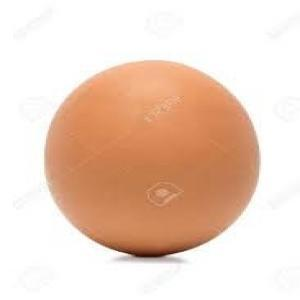Egg: (40, 57, 258, 260)
